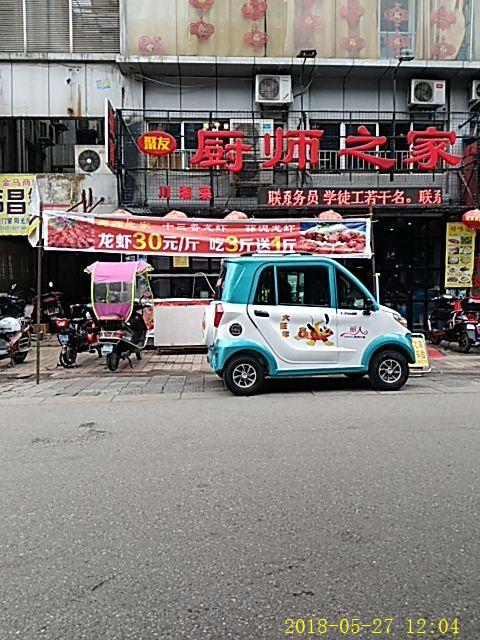window_shielding: (104, 98, 479, 213)
